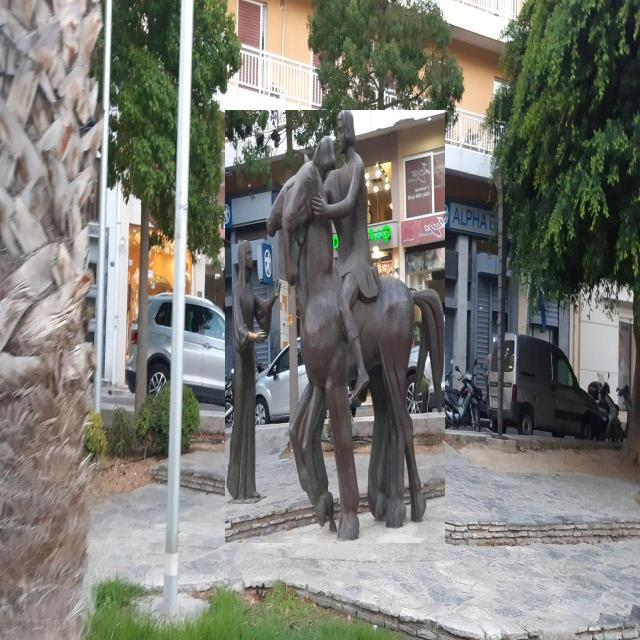Aretousa: (226, 111, 446, 544)
